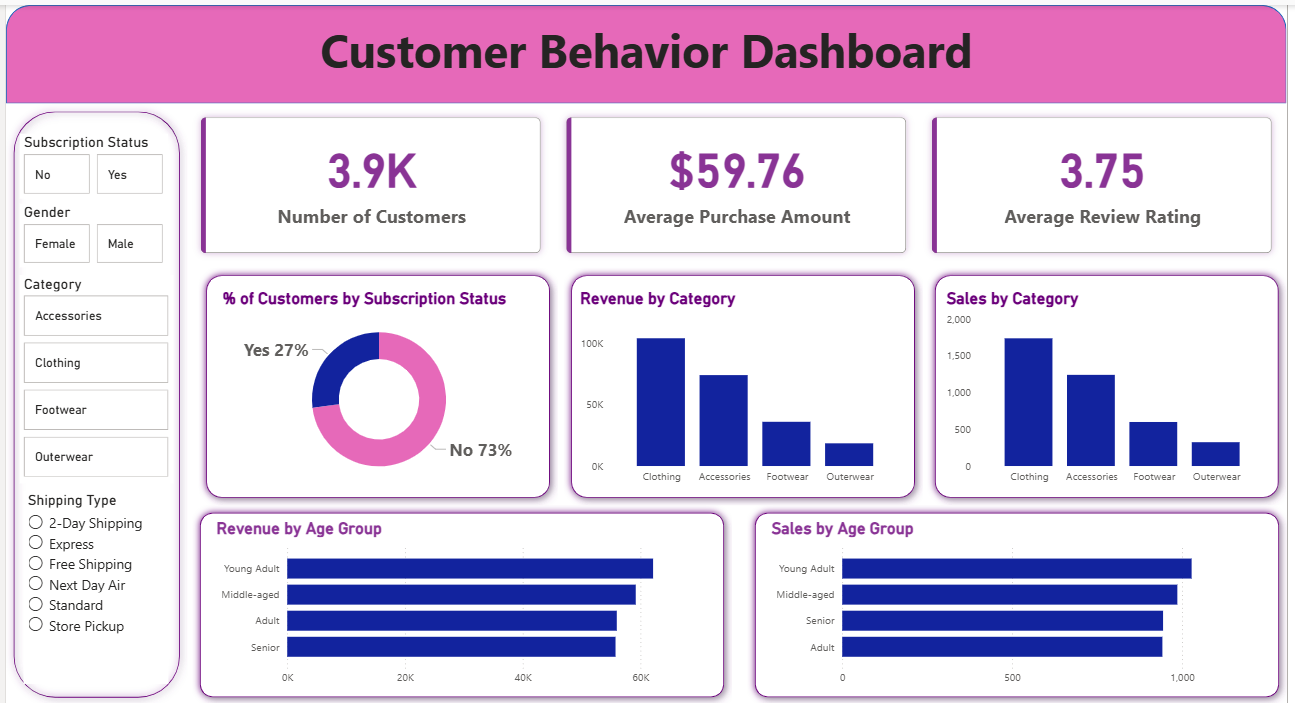

This screenshot's page, from the dashboard's own definition file:
{"tool":"powerbi","page":{"name":"Page 1","canvas":[1500,820],"ordinal":0},"visuals":[{"type":"cardVisual","fields":{"Data":["public customer.Number of Customers","public customer.Average Purchase Amount","public customer.Average Review Rating"]},"box":[212.9,115.3,1286.5,191.6],"z":2000},{"type":"shape","box":[218.3,585.6,631.7,234.2],"z":2500,"group":"g1"},{"type":"shape","box":[0,0,1499.4,115.3],"z":3000},{"type":"textbox","box":[0,12.4,1499.4,102.9],"z":4000},{"type":"shape","box":[225.4,307,420.5,278.6],"z":5000},{"type":"donutChart","title":"% of Customers by Subscription Status","fields":{"Category":["public customer.subscription_status"],"Y":["CountNonNull(public customer.customer_id)"]},"box":[248.4,331.8,376.2,237.8],"z":6000},{"type":"shape","box":[1078.9,307,420.5,278.6],"z":7000},{"type":"shape","box":[652.1,307,420.5,278.6],"z":8000},{"type":"clusteredColumnChart","title":"Revenue by Category","fields":{"Y":["Sum(public customer.purchase_amount)"],"Category":["public customer.category"]},"box":[667.2,331.8,385.1,237.8],"z":9000},{"type":"clusteredColumnChart","title":"Sales by Category","fields":{"Y":["CountNonNull(public customer.customer_id)"],"Category":["public customer.category"]},"box":[1096.6,331.8,385.1,237.8],"z":10000},{"type":"shape","box":[0,115.8,212.6,704.5],"z":11000},{"type":"advancedSlicerVisual","fields":{"Values":["public customer.subscription_status"]},"box":[16.7,150.2,173.3,75.7],"z":12000},{"type":"advancedSlicerVisual","fields":{"Values":["public customer.gender"]},"box":[16.7,232.3,173.3,74.5],"z":13000},{"type":"advancedSlicerVisual","fields":{"Values":["public customer.category"]},"box":[16.7,315.8,179.7,243.9],"z":14000},{"type":"listSlicer","fields":{"Values":["public customer.shipping_type"]},"box":[20.5,568.7,169.4,225.9],"z":15000},{"type":"shape","box":[867.7,585.6,631.7,234.2],"z":16000},{"type":"clusteredBarChart","title":"Sales by Age Group","fields":{"Y":["CountNonNull(public customer.customer_id)"],"Category":["public customer.age_group"]},"box":[890.8,601.5,585.6,204.1],"z":17000},{"type":"clusteredBarChart","title":"Revenue by Age Group","fields":{"Y":["Sum(public customer.purchase_amount)"],"Category":["public customer.age_group"]},"box":[241.4,601.6,585.6,204.1],"z":17500,"group":"g1"},{"type":"group","id":"g1","title":"Group 1","box":[218.3,585.6,631.7,234.2],"z":17501}]}

Visuals, with their boxes in screenshot pixels (x1, y1, x2, y2), scaled from the page's 1500x820 canvas onto the 1295x703 screenshot:
cardVisual - public customer.Number of Customers x public customer.Average Purchase Amount: locate(184, 99, 1294, 263)
shape: locate(188, 502, 734, 702)
shape: locate(0, 0, 1294, 99)
textbox: locate(0, 11, 1294, 99)
shape: locate(195, 263, 558, 502)
"% of Customers by Subscription Status" donutChart: locate(214, 284, 539, 488)
shape: locate(931, 263, 1294, 502)
shape: locate(563, 263, 926, 502)
"Revenue by Category" clusteredColumnChart: locate(576, 284, 908, 488)
"Sales by Category" clusteredColumnChart: locate(947, 284, 1279, 488)
shape: locate(0, 99, 184, 702)
advancedSlicerVisual - public customer.subscription_status: locate(14, 129, 164, 194)
advancedSlicerVisual - public customer.gender: locate(14, 199, 164, 263)
advancedSlicerVisual - public customer.category: locate(14, 271, 170, 480)
listSlicer - public customer.shipping_type: locate(18, 488, 164, 681)
shape: locate(749, 502, 1294, 702)
"Sales by Age Group" clusteredBarChart: locate(769, 516, 1275, 691)
"Revenue by Age Group" clusteredBarChart: locate(208, 516, 714, 691)
"Group 1" group: locate(188, 502, 734, 702)
